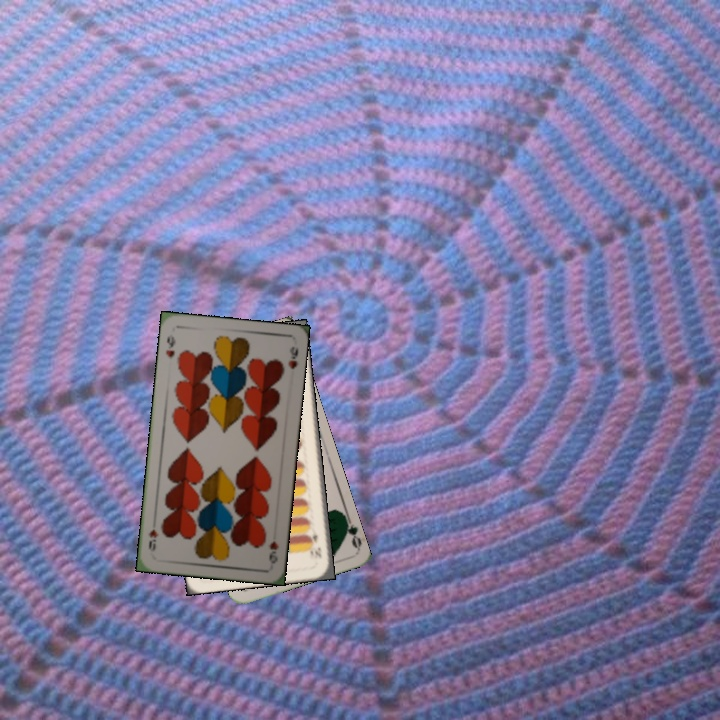E10: (306, 523, 324, 561)
GO: (340, 511, 364, 551)
H9: (162, 330, 178, 362), (265, 537, 281, 566)
